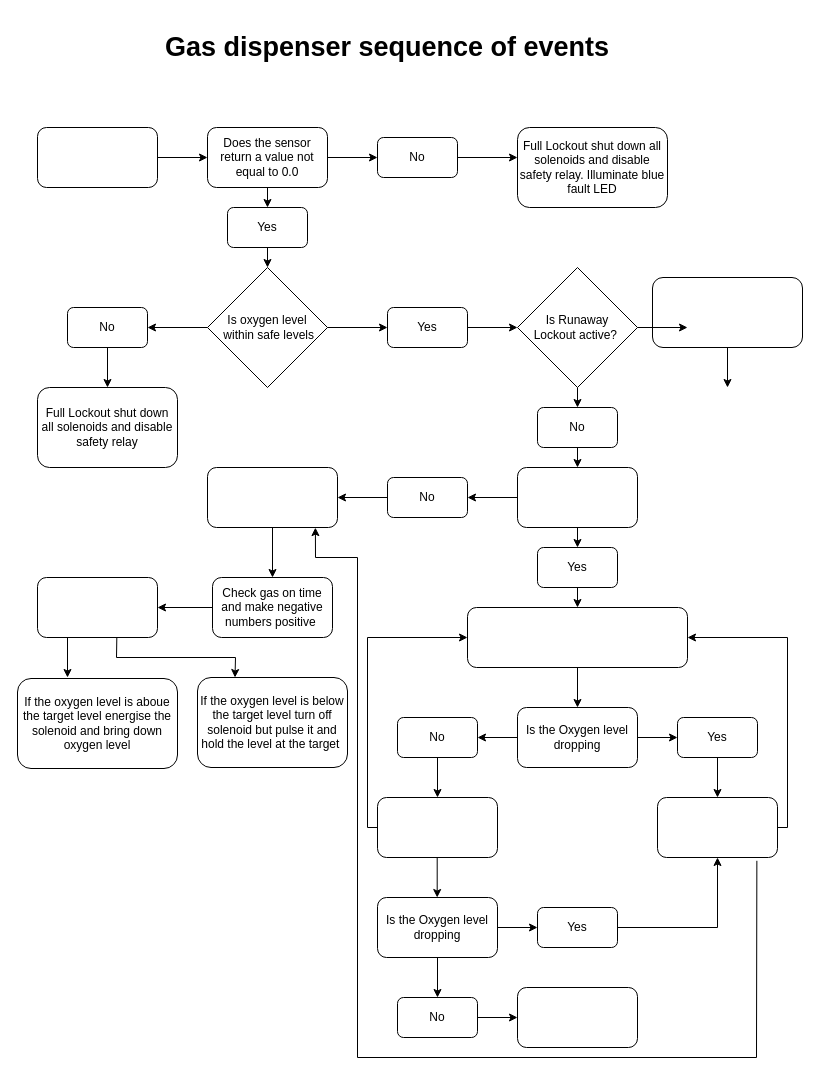
Some shapes in this 820 by 1083 pixel diagram are drawn without their labels. Here are the shapes that lost their labels. From the top down, the centre of each, then its label:
the point at 97,157: Test Oxygen level in the room
the point at 727,312: 10 minute Lockout shut down all solenoids and disable safty relay
the point at 272,497: Get bed oxygen level reading
the point at 577,497: Gas output = -100
the point at 97,607: Compute the new PID values
the point at 577,637: Anti runaway take 3 Oxygen samples at 4 second intervals and find the average
the point at 437,827: Rerun anti runaway 3 more times
the point at 717,827: Ignore and continue
the point at 577,1017: Runaway Lockout for 10 minutes
